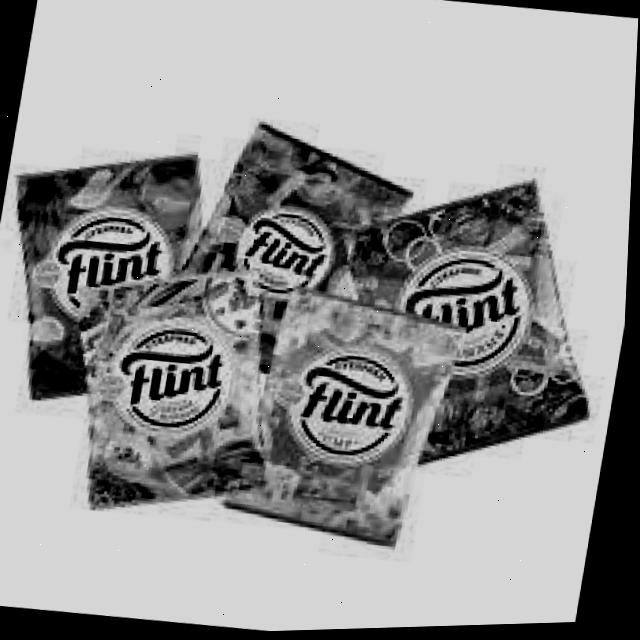flint: (293, 341, 419, 470), (109, 314, 236, 436), (230, 199, 342, 306)
